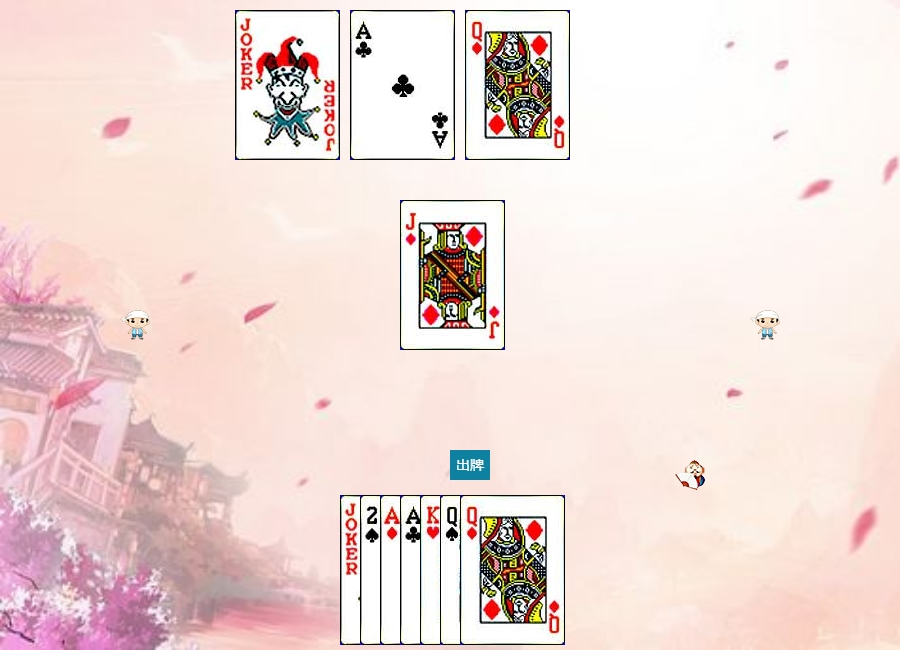11~1: (400, 200, 505, 350)
12~1: (465, 10, 570, 160), (460, 495, 565, 645)
12~4: (440, 495, 545, 645)
13~3: (420, 495, 525, 645)
14~1: (380, 495, 485, 645)
14~2: (350, 10, 455, 160), (400, 495, 505, 645)
15~4: (360, 495, 465, 645)
18~4: (235, 10, 340, 160), (340, 495, 445, 645)
